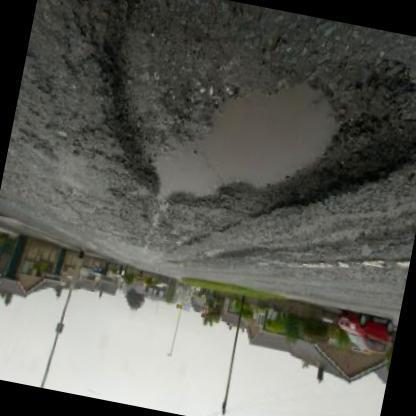pothole: (87, 0, 416, 243)
